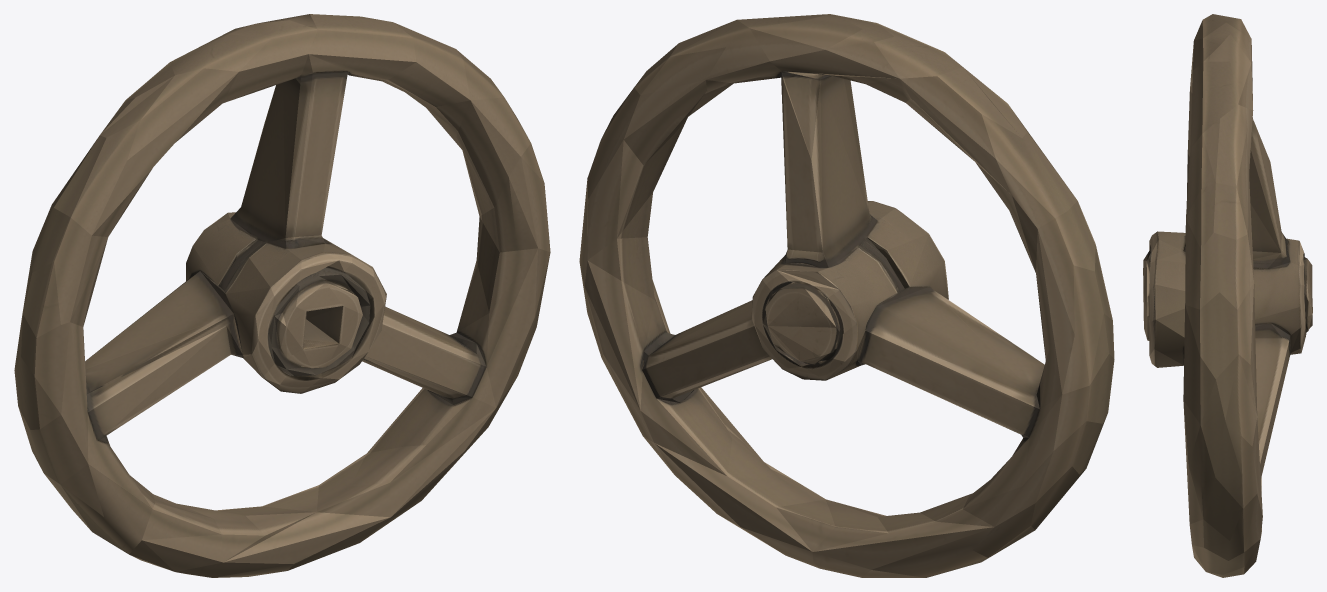
Rendered from lyuk-koleso.glb.
3 views of the same model, side by side, from view 1: azimuth 30°, elevation 25°; view 2: azimuth 150°, elevation 25°; view 3: azimuth 270°, elevation 25° (orthographic). The views are drawn at different scales.
Visible parts, largest first — view 1: lyuk-koleso; view 2: lyuk-koleso; view 3: lyuk-koleso.
Boxes of the visible parts, x1=… form: lyuk-koleso: x1=14, y1=14, x2=550, y2=577; lyuk-koleso: x1=579, y1=14, x2=1114, y2=577; lyuk-koleso: x1=1143, y1=14, x2=1312, y2=577.
Size of the model in its own units: 0.5 by 0.5 by 0.1512.
Materials: 1 (1 with a texture image).
